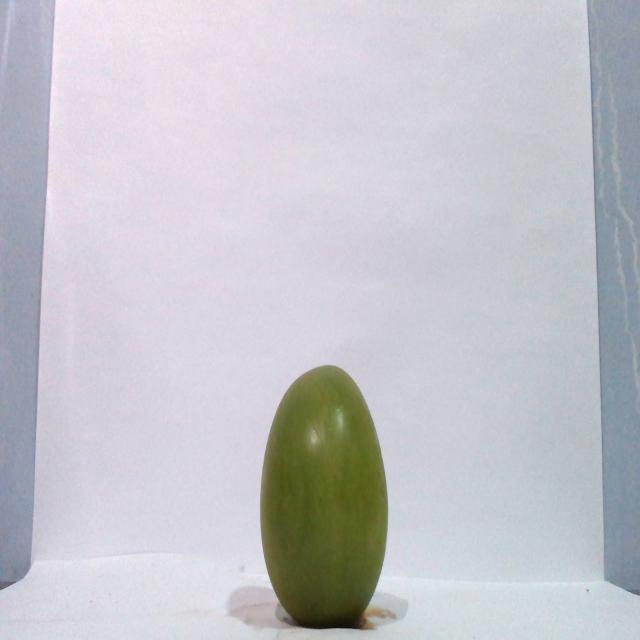Red: (258, 363, 389, 627)
